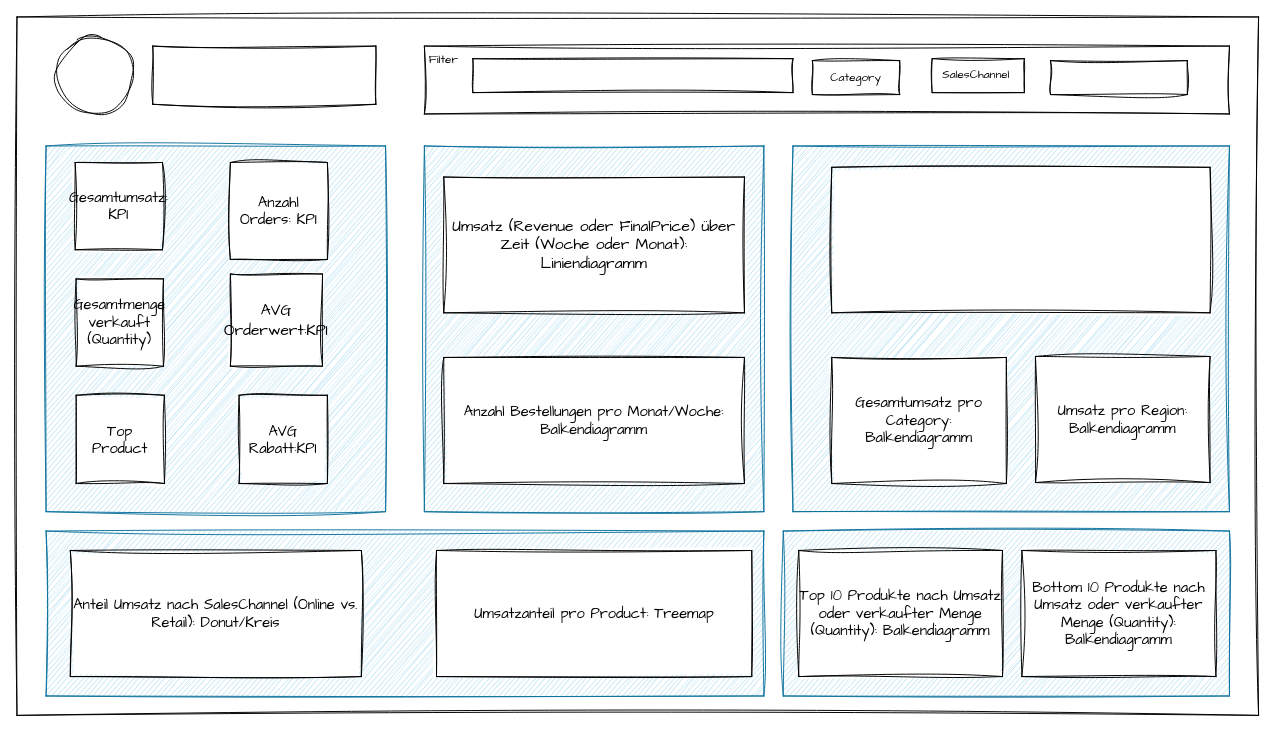
The diagram is 1276 pixels wide and 732 high, and some of its shapes have lost their labels. The shapes that lost their labels are listed below. From the top down, each one's centre as x and y in pixels, then its label:
point (94, 74): Logo
point (264, 74): Sales Dashboard
point (632, 75): Monat
point (1118, 77): DIscount Range
point (1020, 239): Discount vs. Revenue/FinalPrice:Scatterplot
